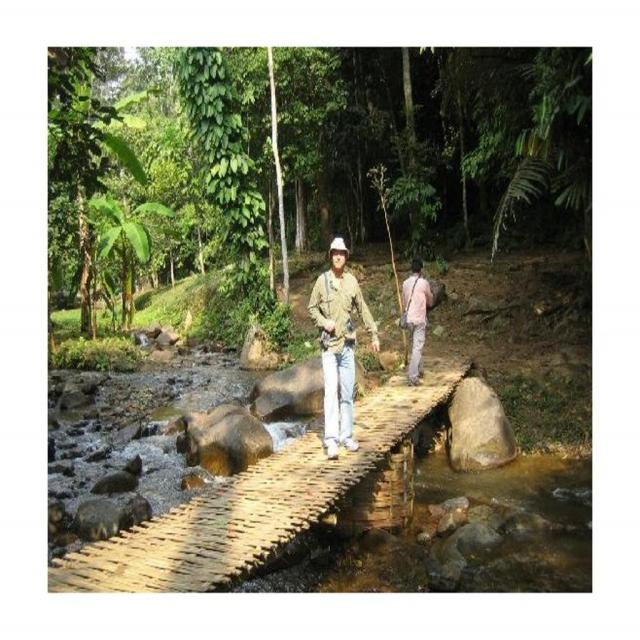nomask: (331, 245, 345, 268)
